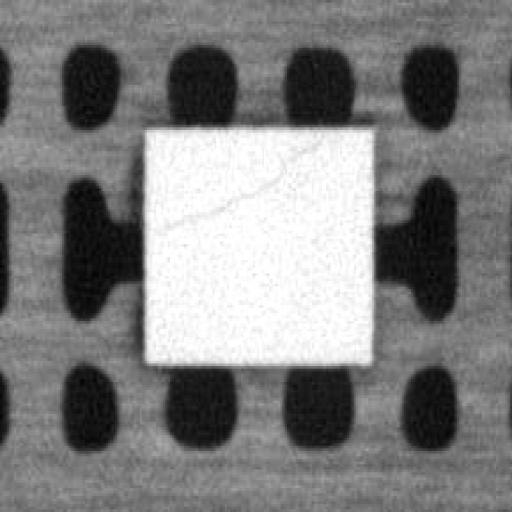DIE_CRACK: (162, 135, 322, 223)
